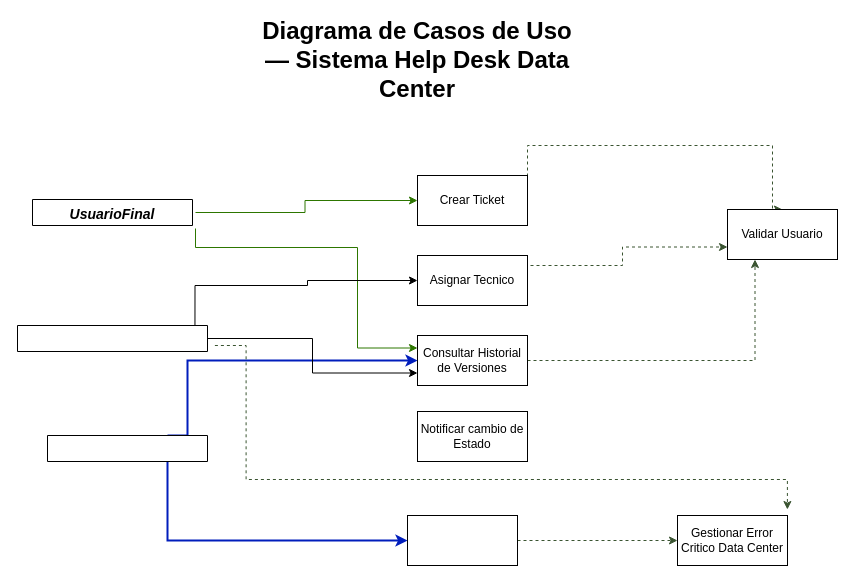
Image size: 855x583. Some labels were removed from this diagram. The shapes that lost their labels are listed below. From the top down, each one's centre as x and y in pixels, then its label:
the point at 112,338: Administrador de Sistemas
the point at 127,448: Tecnico de Soporte
the point at 462,540: Categorizar Fallo
